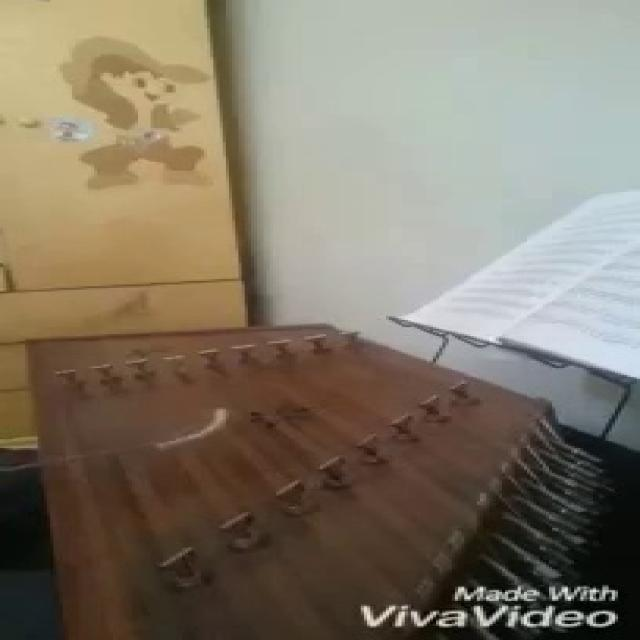Santur: (25, 325, 640, 640)
